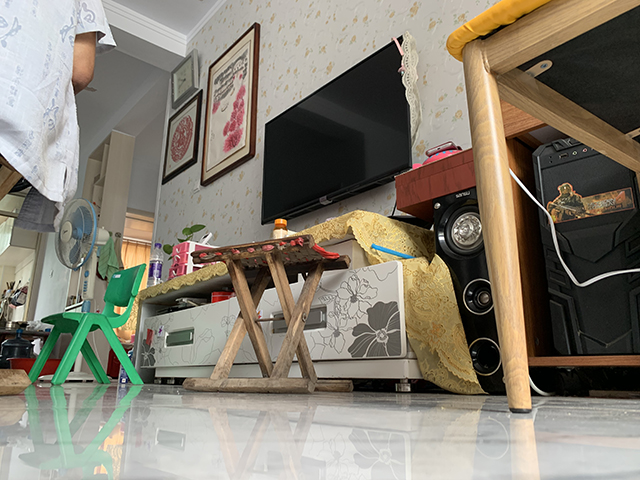cabinet: (131, 209, 441, 393)
stool: (446, 1, 639, 416), (181, 232, 357, 396), (27, 263, 147, 386)
